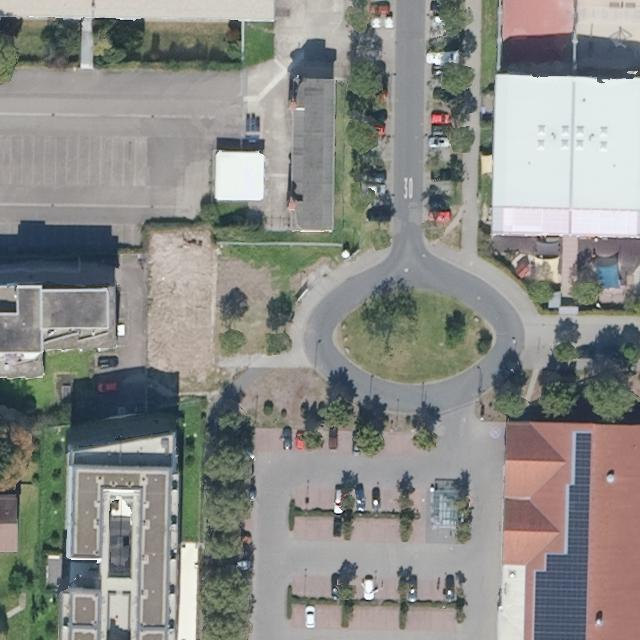PV: (528, 429, 596, 638)
